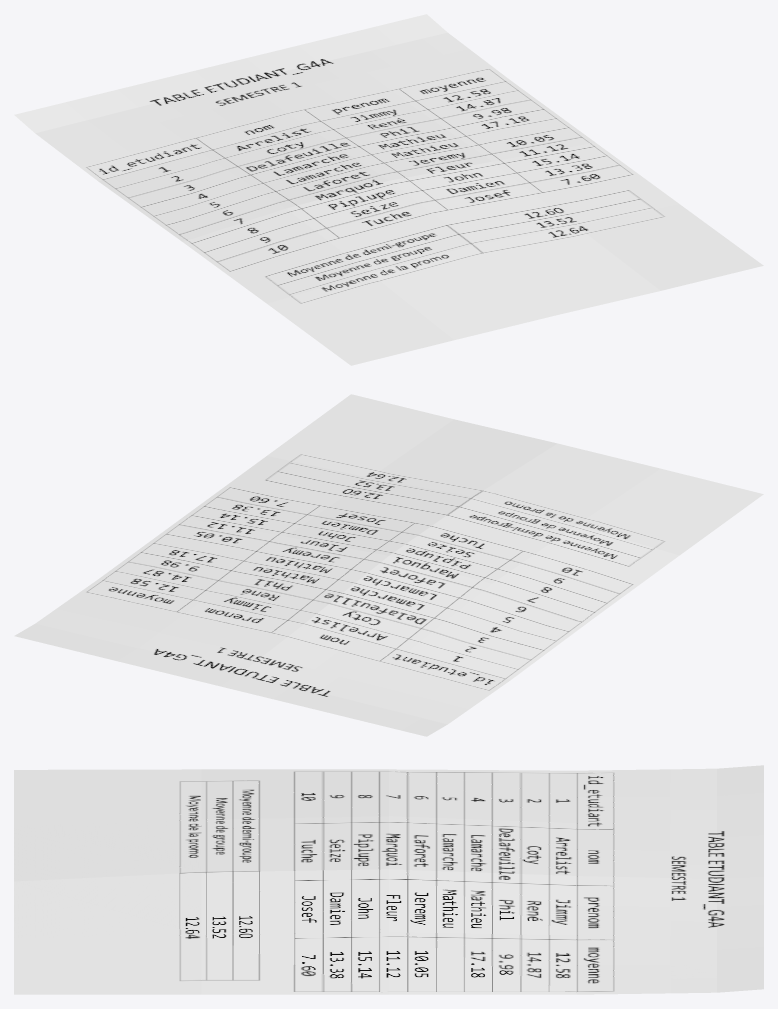
The model's file is student_table_note.fbx.
The picture shows the model from 3 angles, top to bottom: view 1: azimuth 30°, elevation 25°; view 2: azimuth 150°, elevation 25°; view 3: azimuth 270°, elevation 25°; orthographic projection. The views are drawn at different scales.
Parts seen in each view (by area): view 1: Plane; view 2: Plane; view 3: Plane.
Boxes of the visible parts, x1,y1,x2,y2 form: Plane: [14, 14, 763, 365]; Plane: [14, 394, 763, 736]; Plane: [14, 765, 763, 994].
Size of the model in its own units: 0.3505 by 0.00976 by 0.4958.
